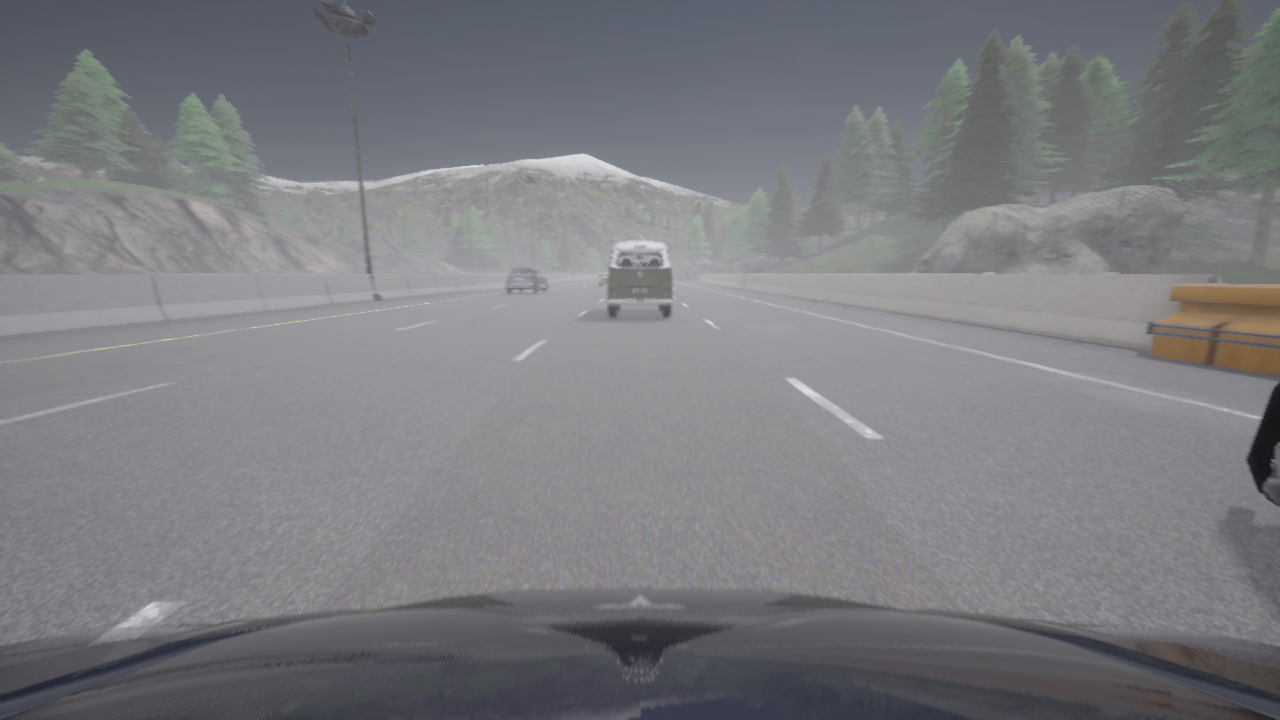cyclist: (0, 588, 1279, 719), (607, 241, 673, 317), (1246, 381, 1279, 507), (506, 266, 548, 293), (599, 272, 608, 285)
